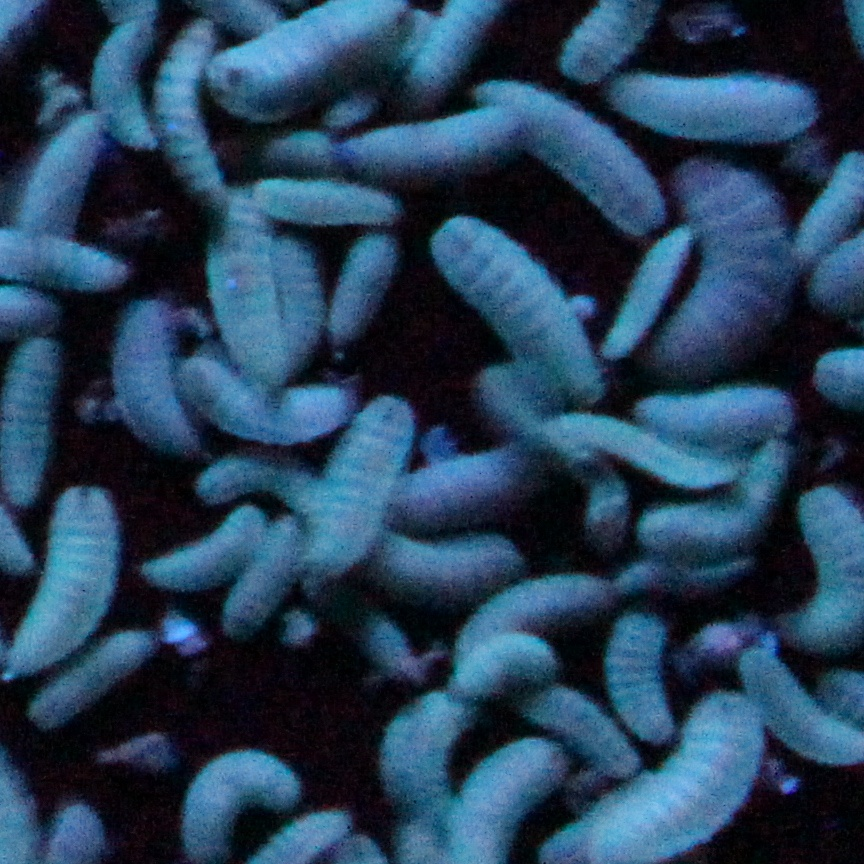larve: (644, 148, 809, 375), (434, 210, 611, 403), (561, 695, 781, 850), (479, 90, 659, 238), (14, 458, 119, 680), (314, 380, 411, 588), (636, 428, 791, 555), (201, 180, 291, 390), (609, 65, 821, 145), (369, 680, 471, 838), (114, 293, 201, 460), (379, 443, 539, 533), (184, 740, 301, 863), (439, 723, 556, 845), (556, 410, 744, 485), (9, 98, 104, 235), (606, 220, 686, 360), (361, 110, 544, 168), (264, 163, 404, 238), (31, 638, 151, 723), (604, 600, 671, 748), (146, 510, 264, 590), (376, 528, 519, 593), (461, 583, 609, 643), (541, 683, 639, 773), (336, 238, 401, 365), (226, 525, 296, 628), (276, 240, 326, 373), (459, 635, 556, 698), (364, 613, 436, 695), (46, 783, 116, 853), (261, 810, 366, 850)
